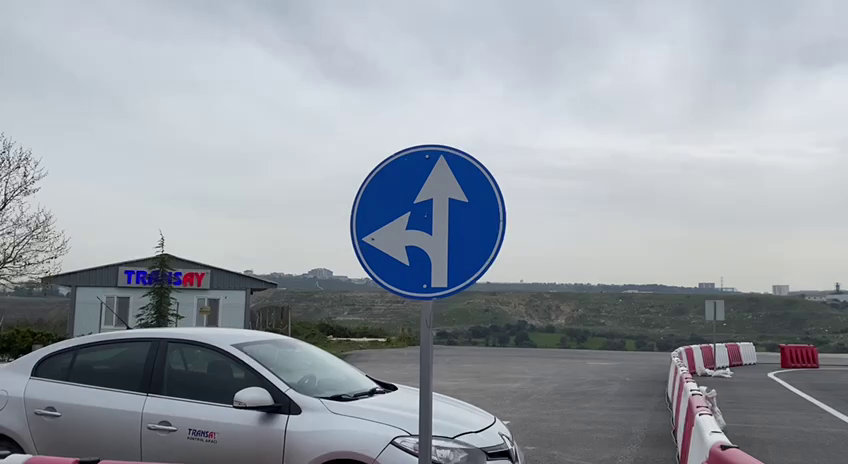forwardAndLeft: (347, 143, 509, 302)
